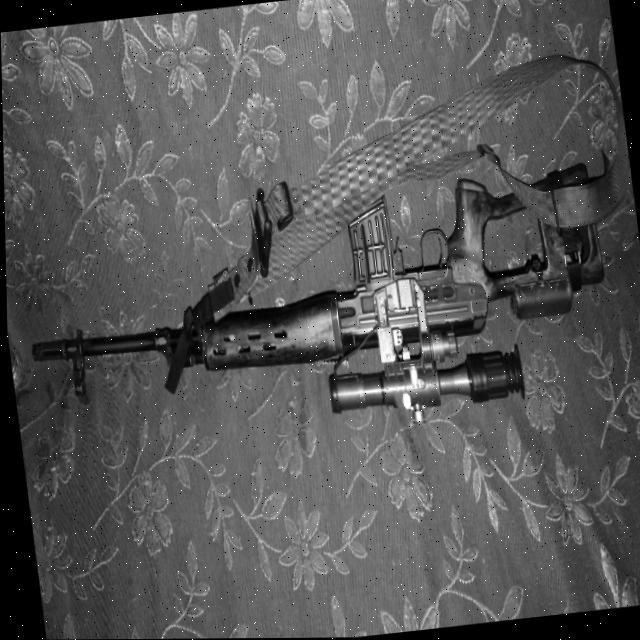firearm: (14, 159, 621, 471)
